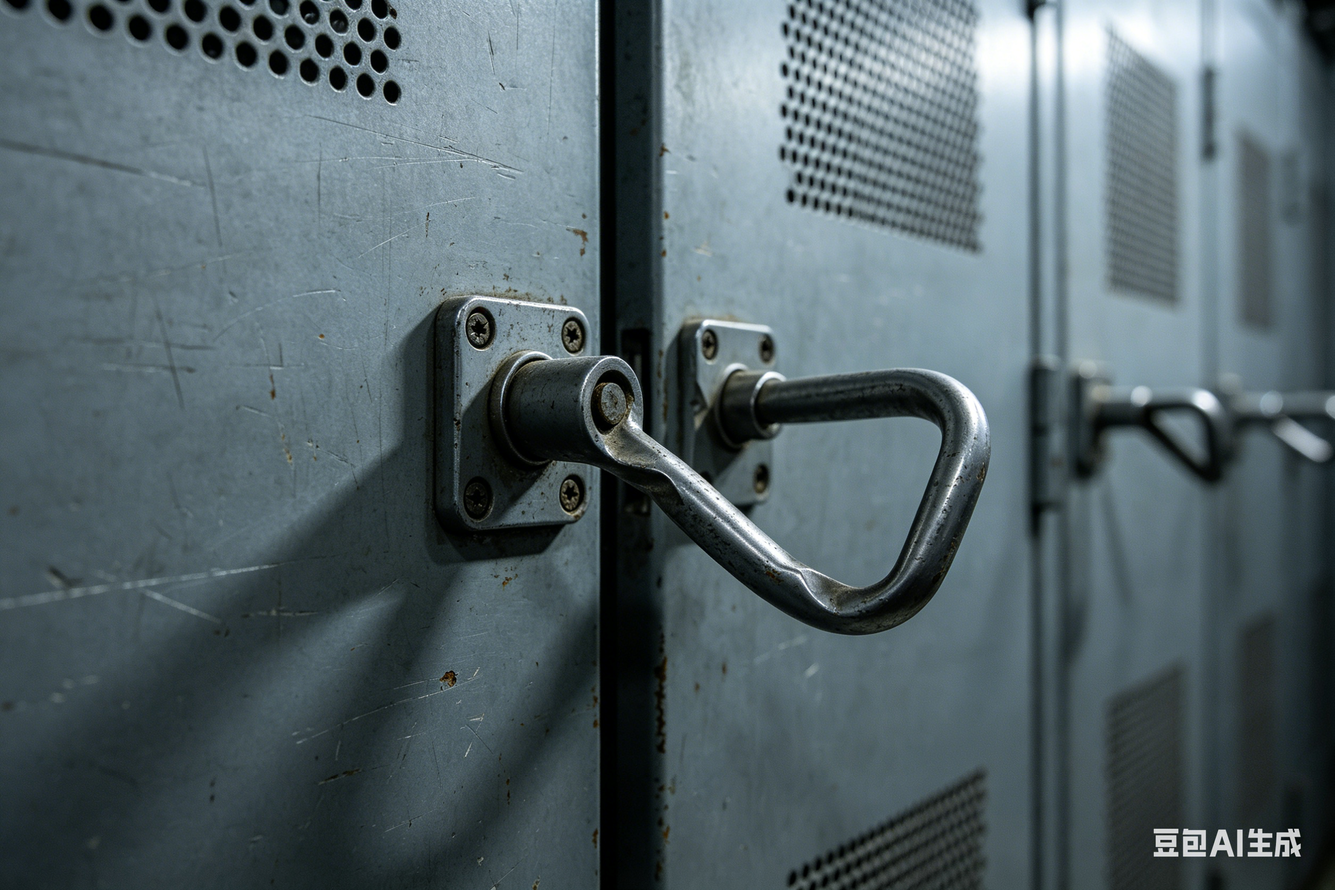BadLock: (573, 355, 981, 626)
